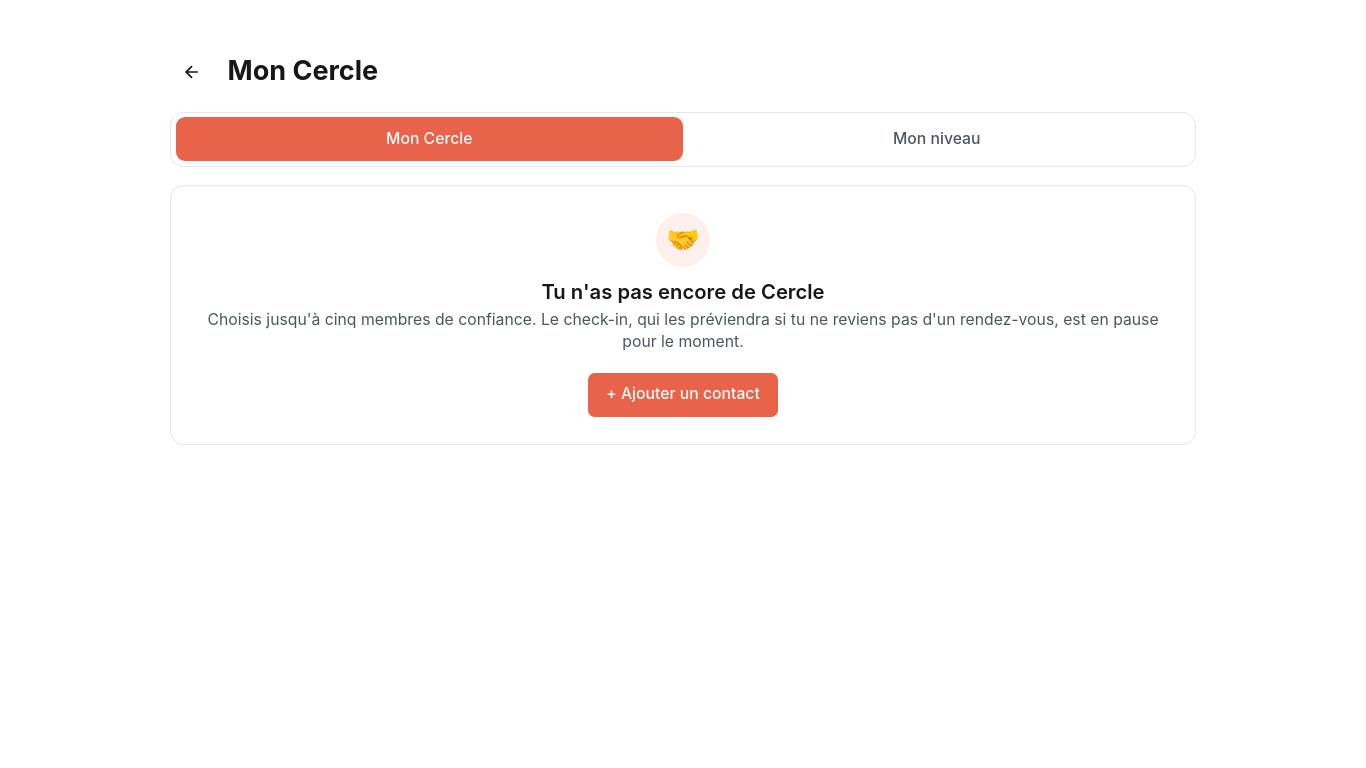
<TrustSettingsPage /> — a11y › bottom-sheet d’ajout : ESC ferme et restaure le focus sur le déclencheur
Check: the tab "Mon Cercle" is shown, box x1=176 y1=117 x2=683 y2=161
Click the button "+ Ajouter un contact": [683, 395] box x1=588 y1=373 x2=778 y2=417
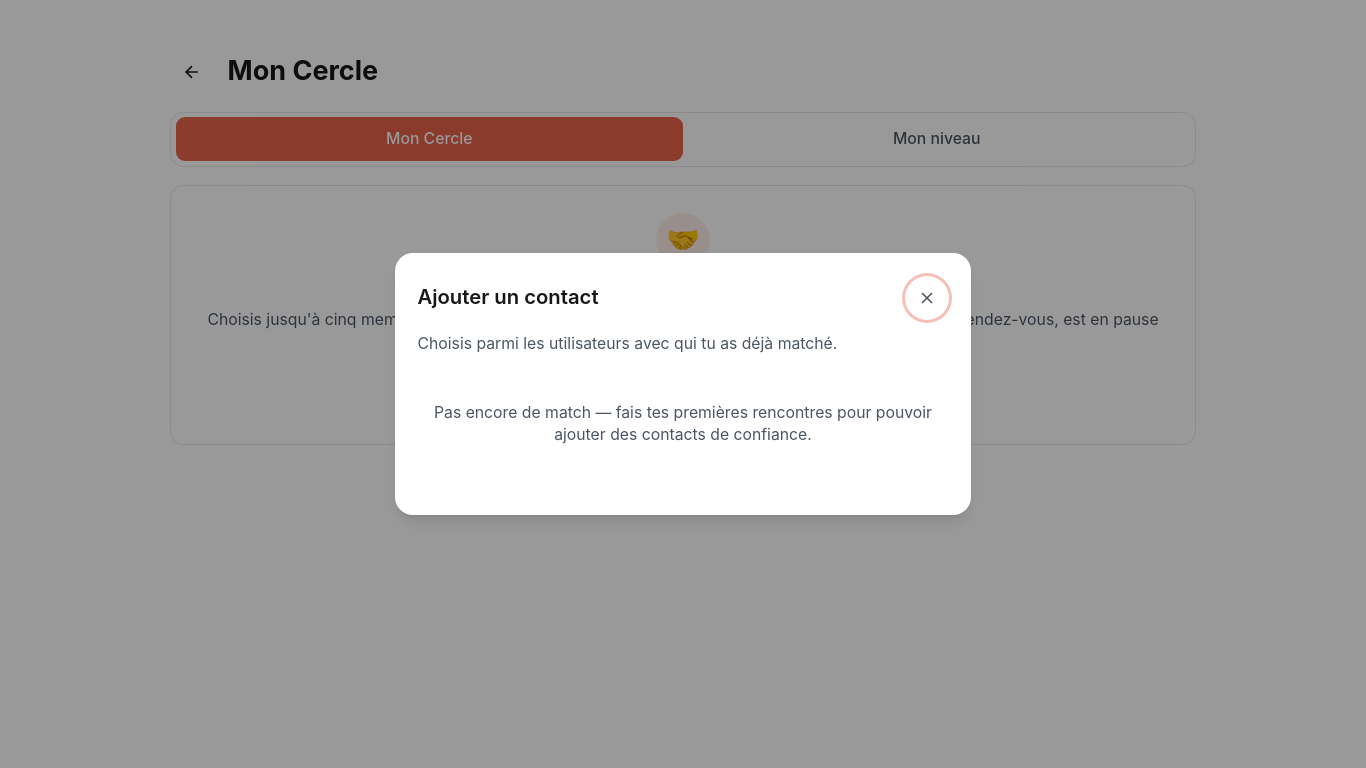
Check: the heading "Ajouter un contact" is shown, box x1=418 y1=286 x2=599 y2=310
Press Escape
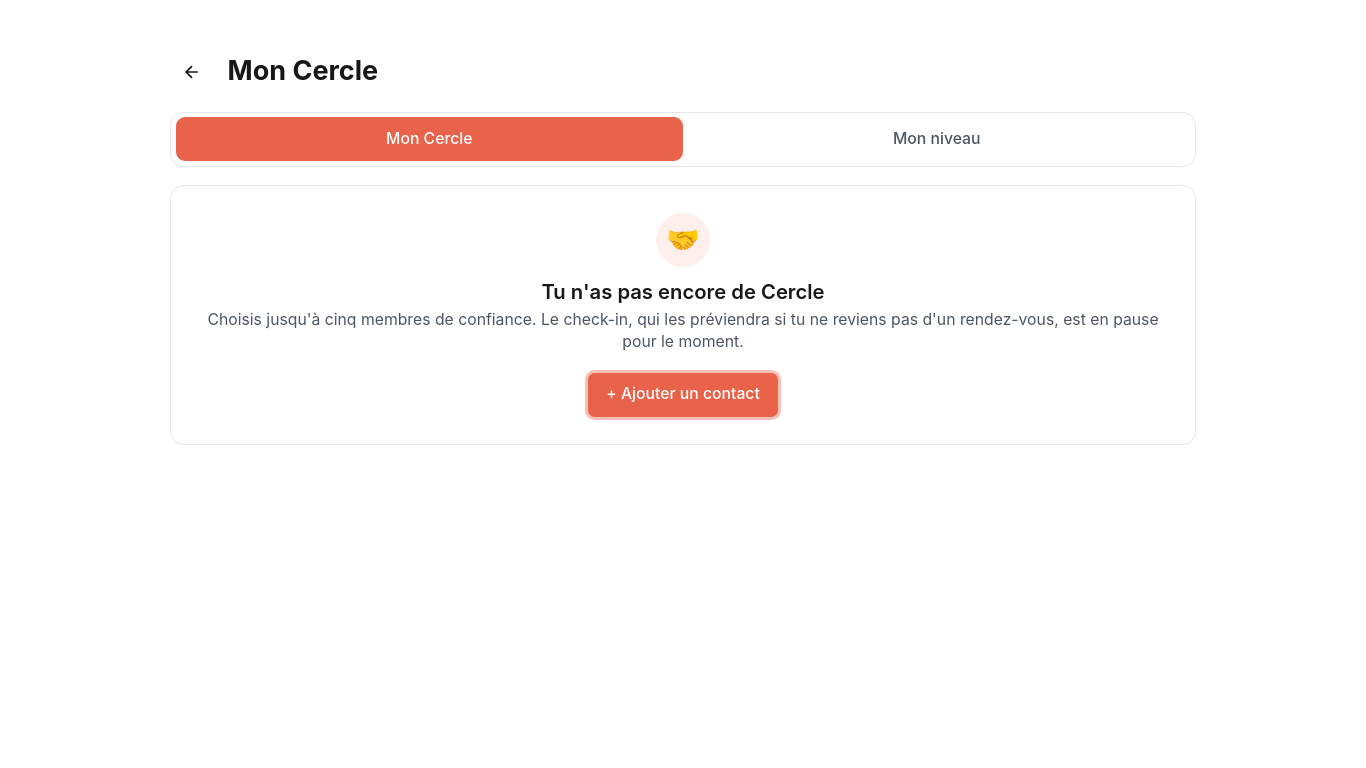
Check: the dialog is gone
